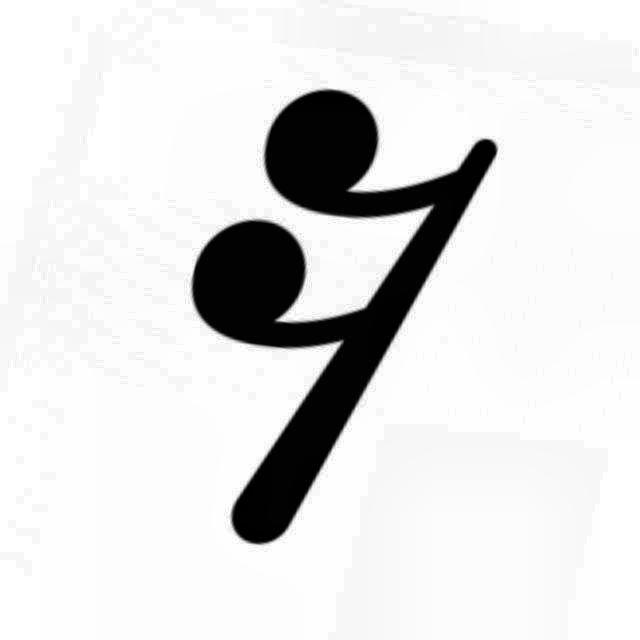Eighth-rest: (162, 74, 514, 546)
